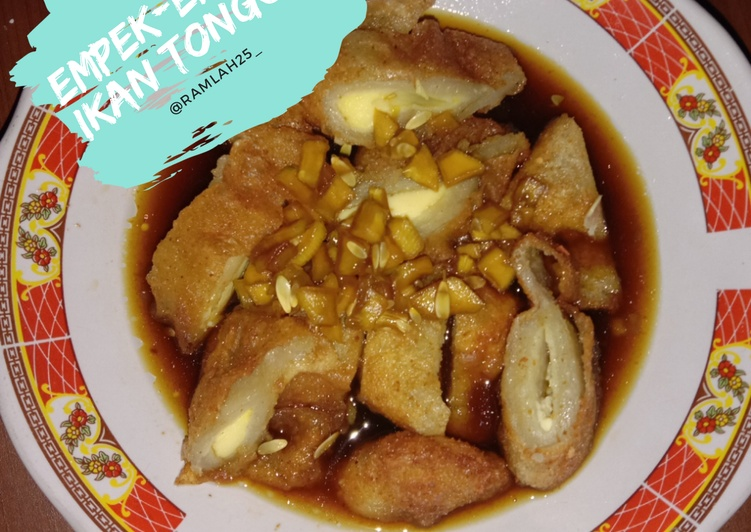pempek: (151, 1, 625, 526)
